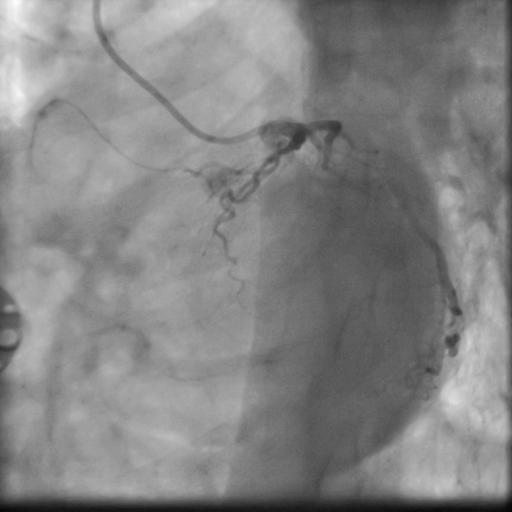Stenosis: (392, 198, 422, 229)
